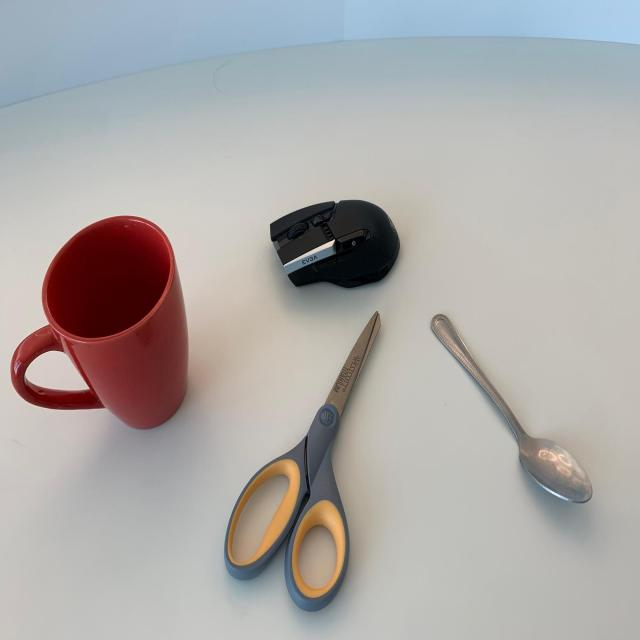Cup: (4, 204, 224, 451)
Mouse: (248, 187, 426, 297)
Spoon: (423, 310, 598, 524)
